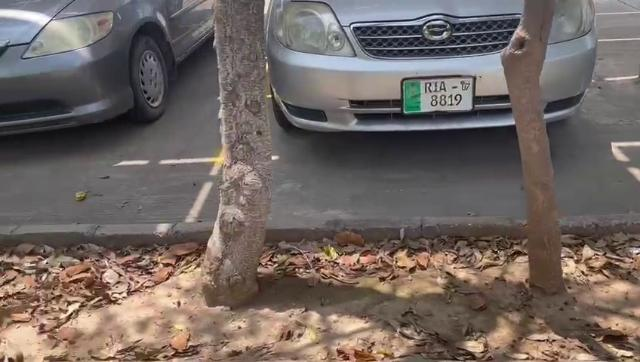plate: (401, 75, 477, 117)
